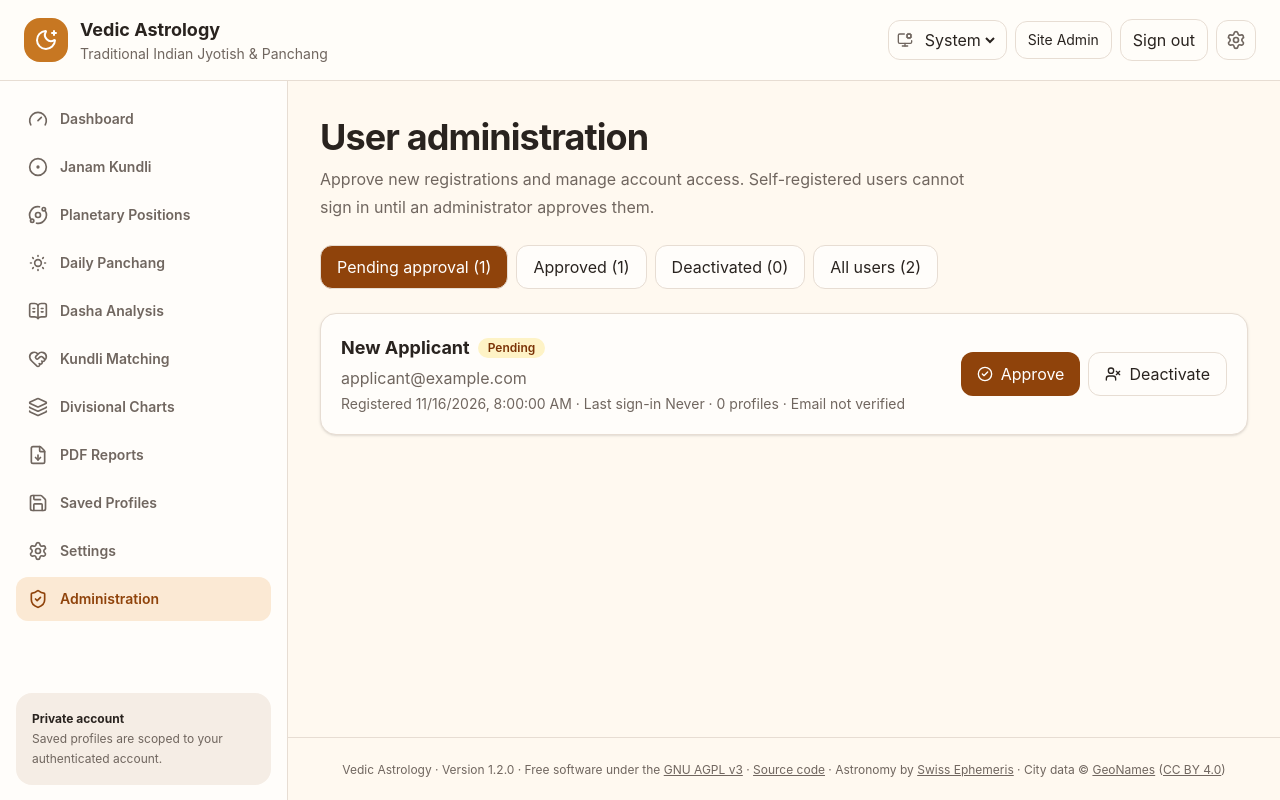
Test case: Admin page › lists pending registrations and approves one
Expected: the text "New Applicant" is shown, 341,334 -> 470,362
Expected: the link "Administration" is shown, 16,577 -> 271,621
Click the button with aria-label "Approve New Applicant": (1021, 374) 961,352 -> 1080,396
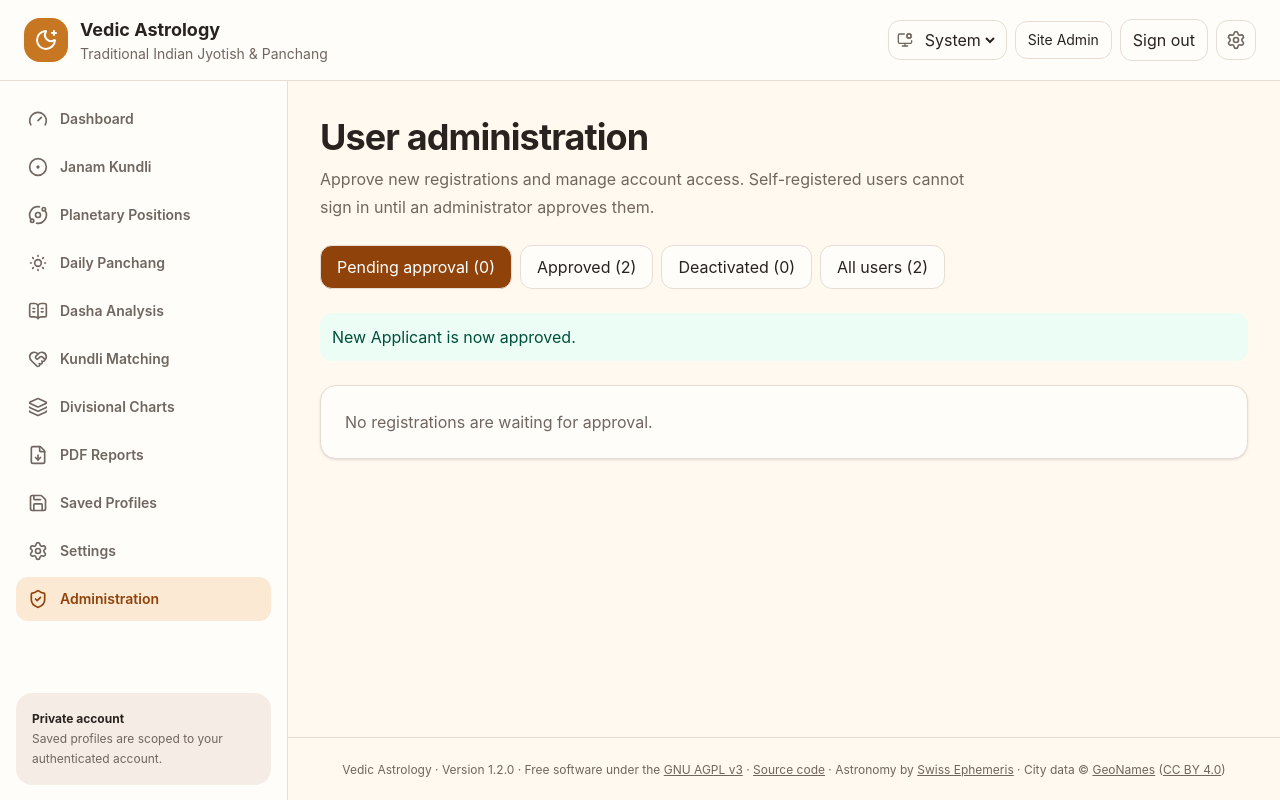
Now the text "New Applicant is now approved." is shown, box 320,313 -> 1248,361
Now the text "No registrations are waiting for approval." is shown, box 320,385 -> 1248,459
